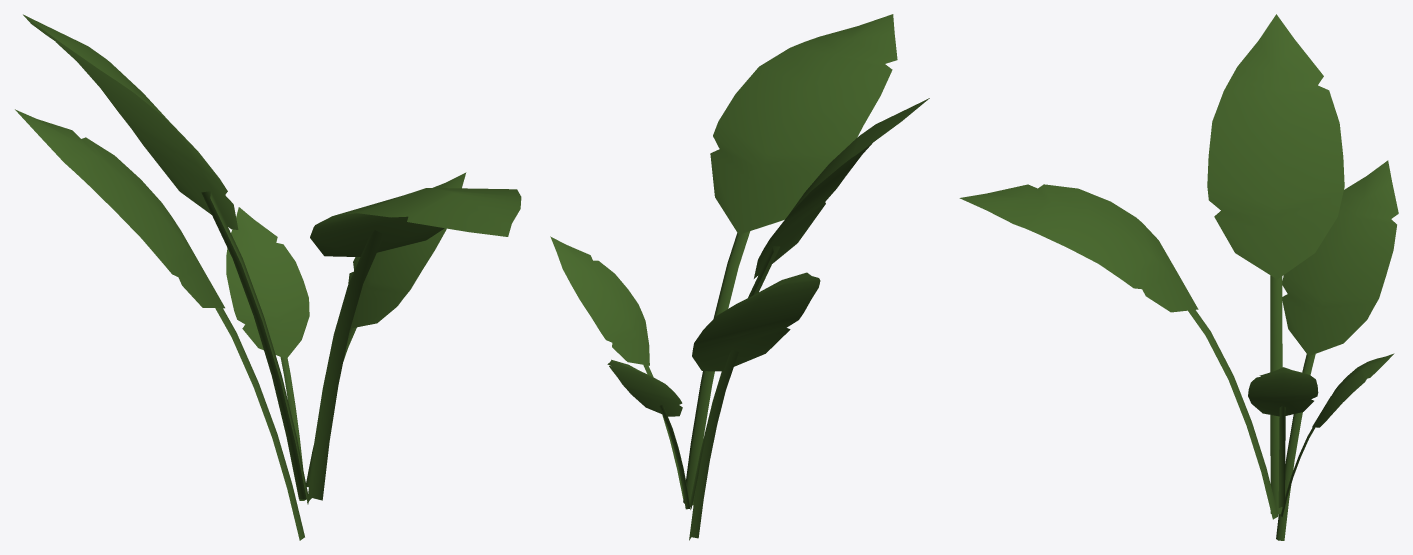
Rendered from Palm_M.fbx.
3 views of the same model, side by side, from view 1: azimuth 30°, elevation 25°; view 2: azimuth 150°, elevation 25°; view 3: azimuth 270°, elevation 25° (orthographic). The views are drawn at different scales.
Parts seen in each view (by area): view 1: Plane.001; view 2: Plane.001; view 3: Plane.001.
Boxes of the visible parts, x1,y1,x2,y2 form: Plane.001: (15,14,521,540); Plane.001: (550,14,929,540); Plane.001: (959,14,1398,540).
Size of the model in its own units: 226 by 286 by 266.
